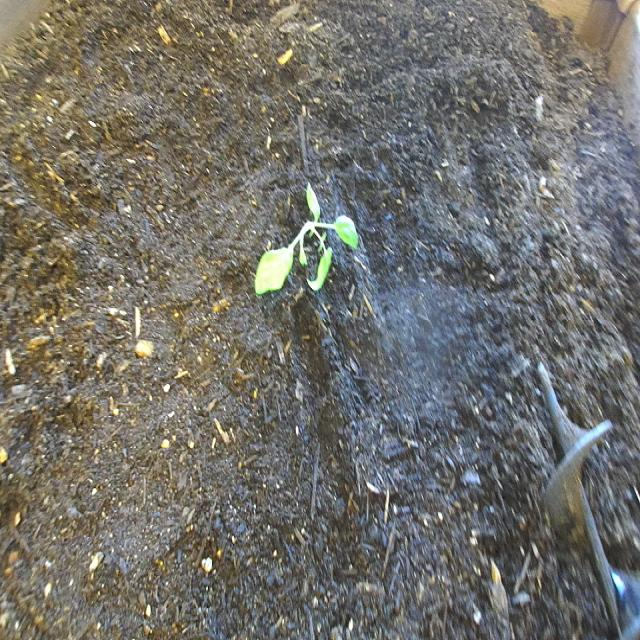Healthy: (252, 177, 364, 302)
